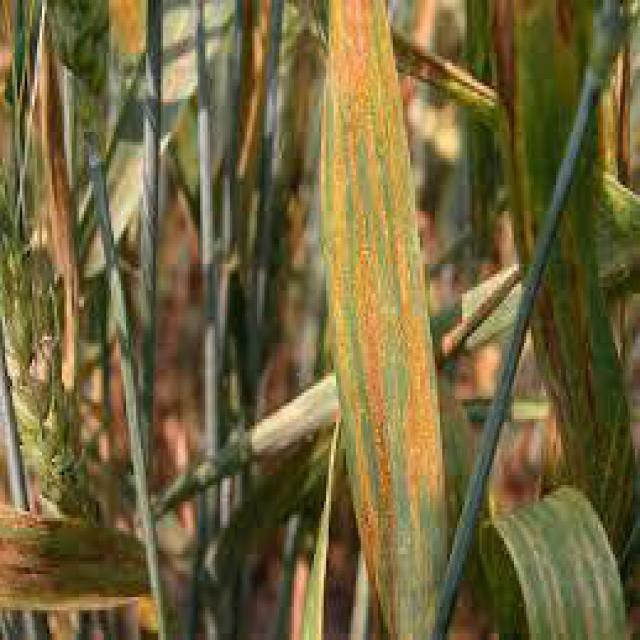Yellow Rust: (320, 0, 446, 637)
